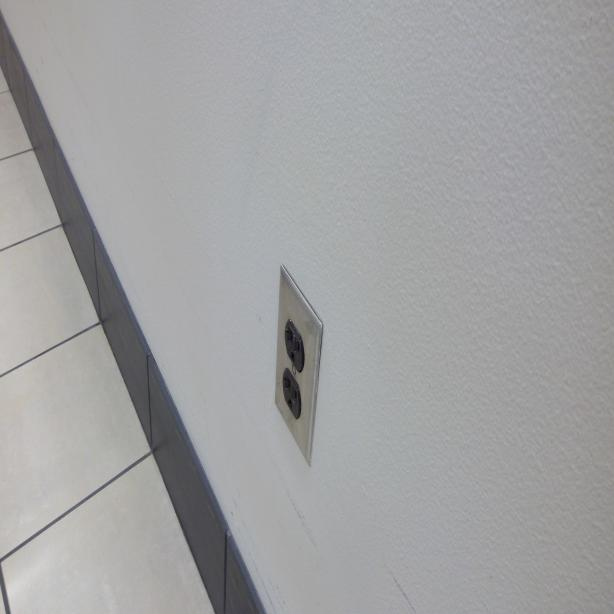typeb: (283, 370, 301, 418), (285, 326, 305, 364)
